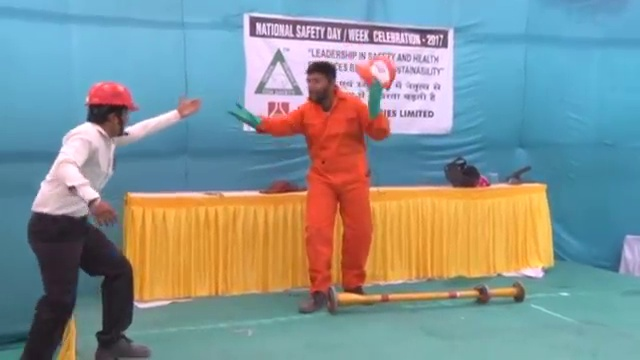helmet: (84, 78, 140, 113)
helmet_off: (304, 62, 337, 102)
helmet_on: (81, 77, 140, 143)
person: (24, 75, 201, 360), (233, 61, 393, 310)
